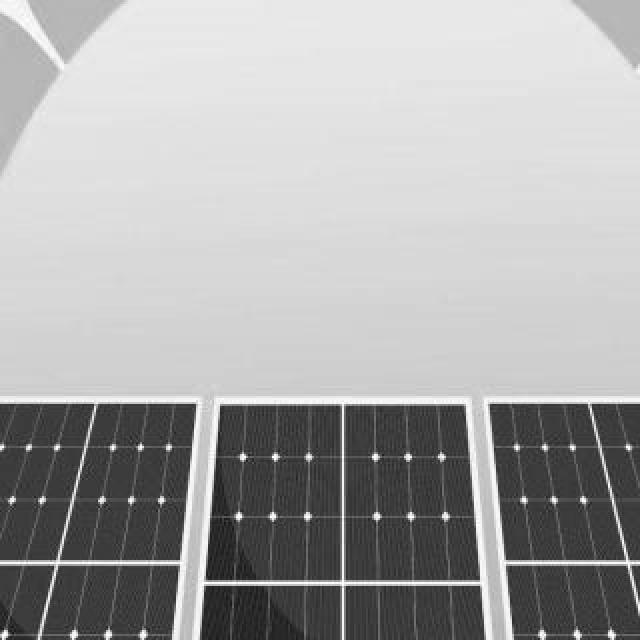Non Defective: (200, 399, 489, 640), (1, 402, 203, 640), (480, 402, 640, 636)
